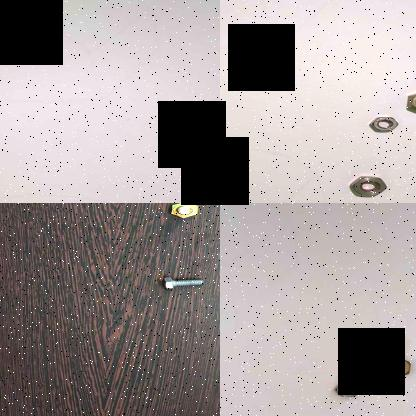Bolts: (158, 274, 206, 294), (165, 203, 203, 220)
NUTS: (369, 351, 416, 381), (345, 173, 395, 199), (178, 135, 220, 163), (368, 114, 398, 137), (332, 381, 364, 398), (201, 175, 220, 197), (404, 84, 416, 116)
